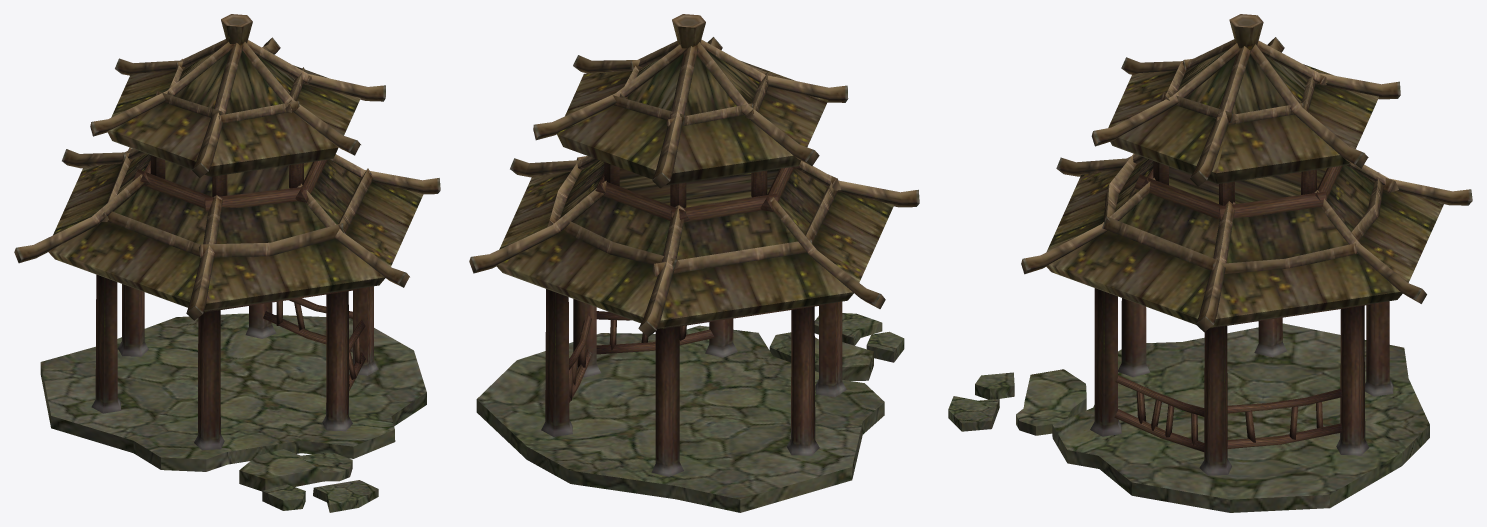
File: ZW_wxxcxtz.FBX
The picture shows the model from 3 angles, left to right: view 1: azimuth 30°, elevation 25°; view 2: azimuth 150°, elevation 25°; view 3: azimuth 270°, elevation 25°; orthographic projection. The views are drawn at different scales.
Parts seen in each view (by area): view 1: ZW_wxxcxtz; view 2: ZW_wxxcxtz; view 3: ZW_wxxcxtz.
Boxes of the visible parts, box(x1,y1,x2,y2) form: ZW_wxxcxtz: box(14, 14, 440, 512); ZW_wxxcxtz: box(469, 14, 919, 512); ZW_wxxcxtz: box(948, 14, 1472, 512).
Size of the model in its own units: 842 by 798 by 932.
